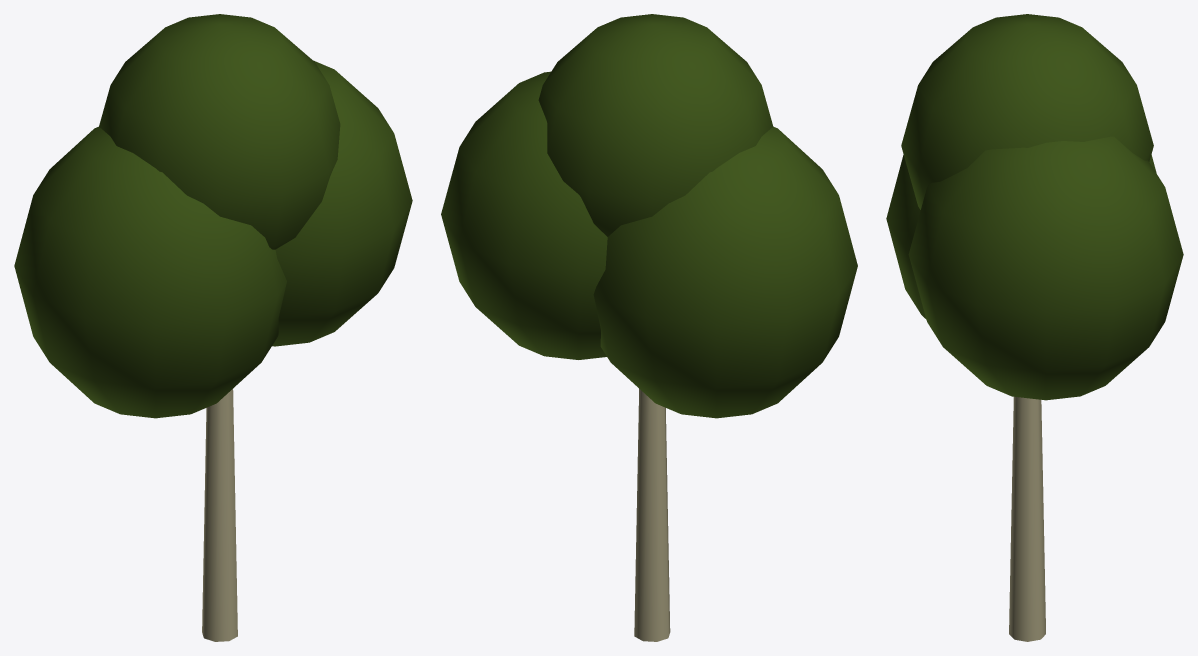
The model's file is birchTrees.obj.
3 views of the same model, side by side, from view 1: azimuth 30°, elevation 25°; view 2: azimuth 150°, elevation 25°; view 3: azimuth 270°, elevation 25° (orthographic).
Parts seen in each view (by area): view 1: birchTrees; view 2: birchTrees; view 3: birchTrees.
Part boxes in pixels (bbox=[...]): birchTrees: bbox=[14, 14, 412, 641]; birchTrees: bbox=[441, 14, 857, 641]; birchTrees: bbox=[886, 14, 1183, 641].
Size of the model in its own units: 5.75 by 9.05 by 4.
Materials: 1 (1 with a texture image).
